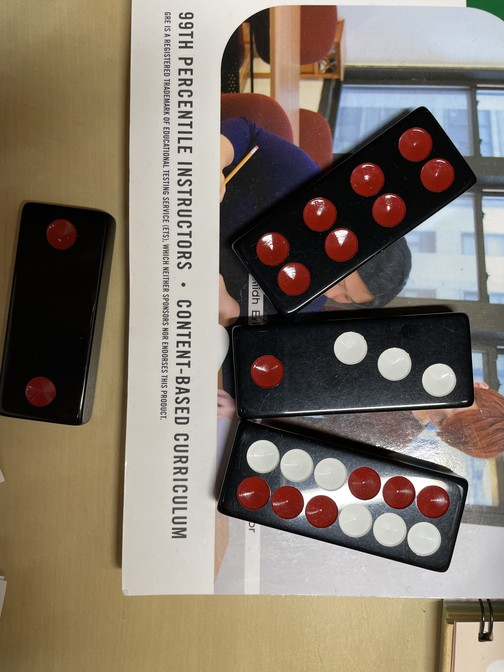earth: (1, 200, 118, 427)
goose: (210, 313, 475, 419)
heaven: (217, 421, 467, 576)
man: (230, 106, 479, 312)
